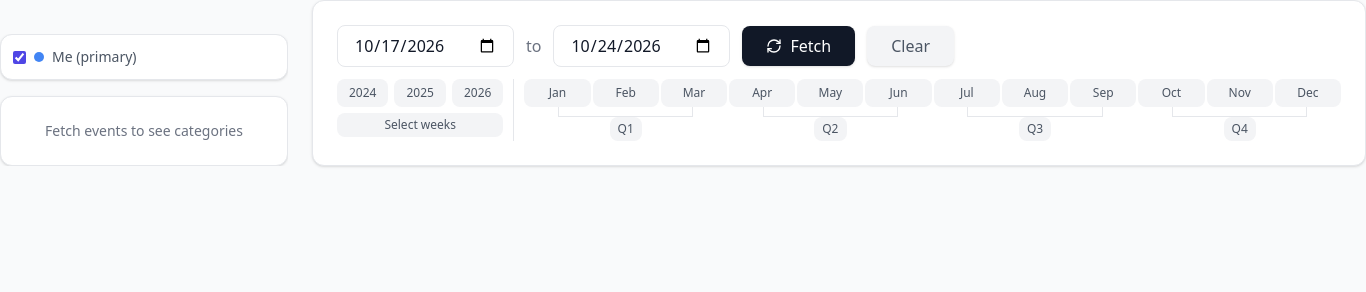
Dashboard › says so when a range has no events
Click the button "Fetch": (799, 46) [742,26,855,66]
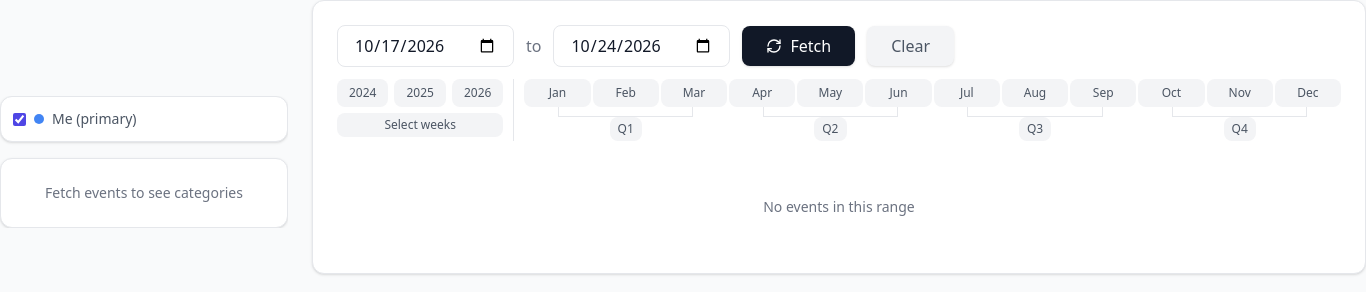
Result: the text "No events in this range" is shown at [763,197,915,216]
